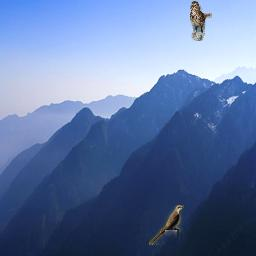Cuckoo: (149, 205, 184, 245)
Sparrow: (190, 1, 212, 41)
